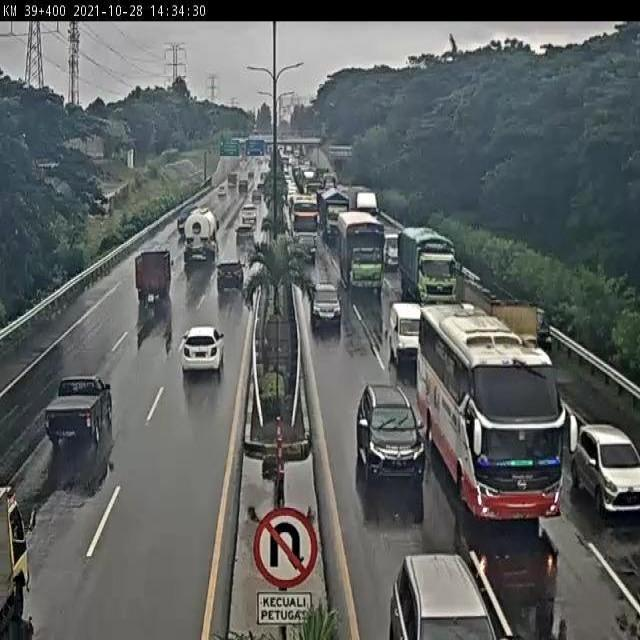ARABA: (356, 383, 426, 484), (578, 421, 640, 512), (43, 376, 116, 451), (388, 301, 428, 372), (183, 324, 226, 377), (307, 275, 342, 332), (216, 258, 248, 298), (293, 231, 319, 261), (235, 229, 258, 260)
KAMYONET: (134, 248, 175, 311), (181, 211, 222, 268)
OTOBUS: (417, 306, 578, 522)
TIR: (333, 211, 386, 292), (394, 224, 453, 296)
